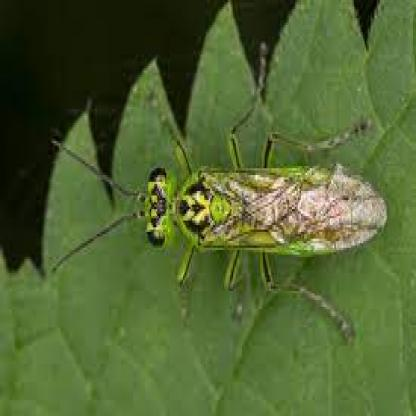sawfly: (42, 37, 388, 349)
